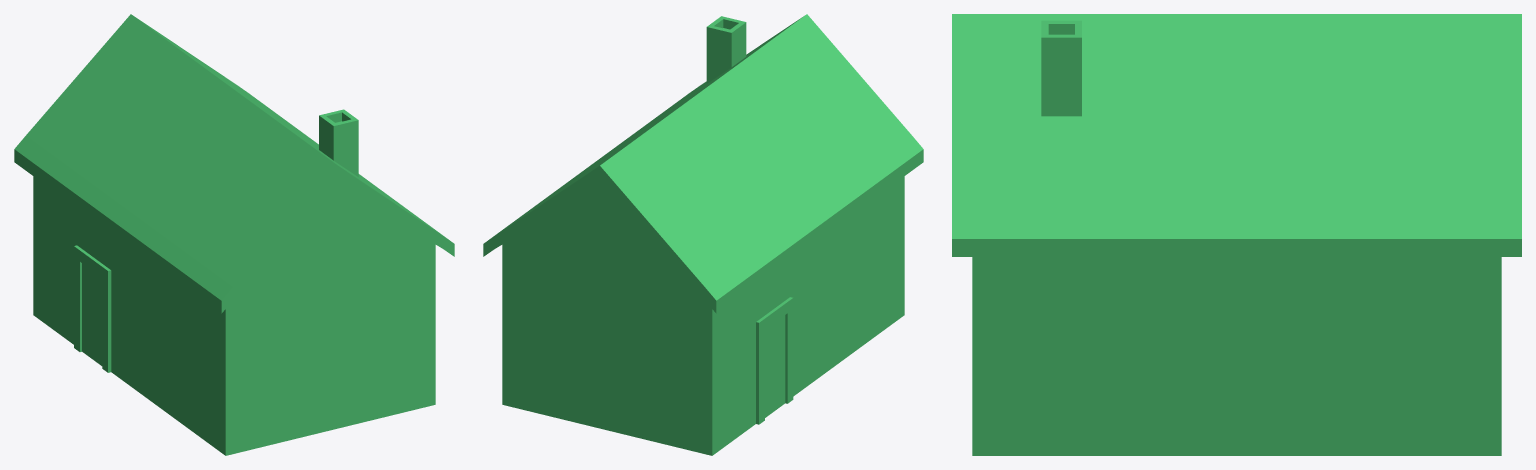
The model's file is plateau-house.glb.
The picture shows the model from 3 angles, left to right: view 1: azimuth 30°, elevation 25°; view 2: azimuth 150°, elevation 25°; view 3: azimuth 270°, elevation 25°; orthographic projection. The views are drawn at different scales.
Visible parts, largest first — view 1: Cube; view 2: Cube; view 3: Cube.
Boxes of the visible parts, x1,y1,x2,y2 form: Cube: [14, 14, 454, 455]; Cube: [483, 14, 923, 455]; Cube: [952, 14, 1521, 455].
Bounding box in the file's own units: 0.028 × 0.032 × 0.0431.
